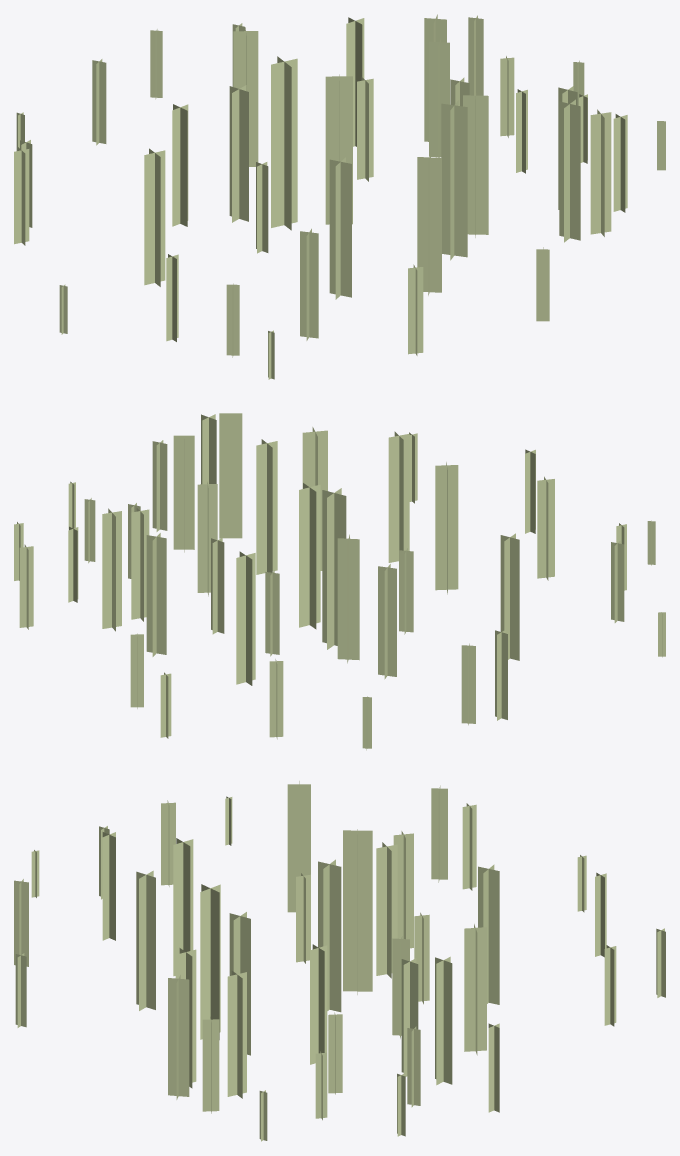
The model's file is Grass.glb.
The picture shows the model from 3 angles, top to bottom: view 1: azimuth 30°, elevation 25°; view 2: azimuth 150°, elevation 25°; view 3: azimuth 270°, elevation 25°; orthographic projection. The views are drawn at different scales.
Visible parts, largest first — view 1: GrassPatch01; view 2: GrassPatch01; view 3: GrassPatch01.
Boxes of the visible parts, x1,y1,x2,y2 form: GrassPatch01: (14, 14, 665, 379); GrassPatch01: (14, 413, 665, 750); GrassPatch01: (14, 781, 665, 1141).
Bounding box in the file's own units: 0.4732 × 0.1189 × 0.4367.
